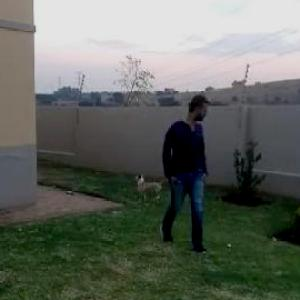follow: (157, 90, 209, 249)
